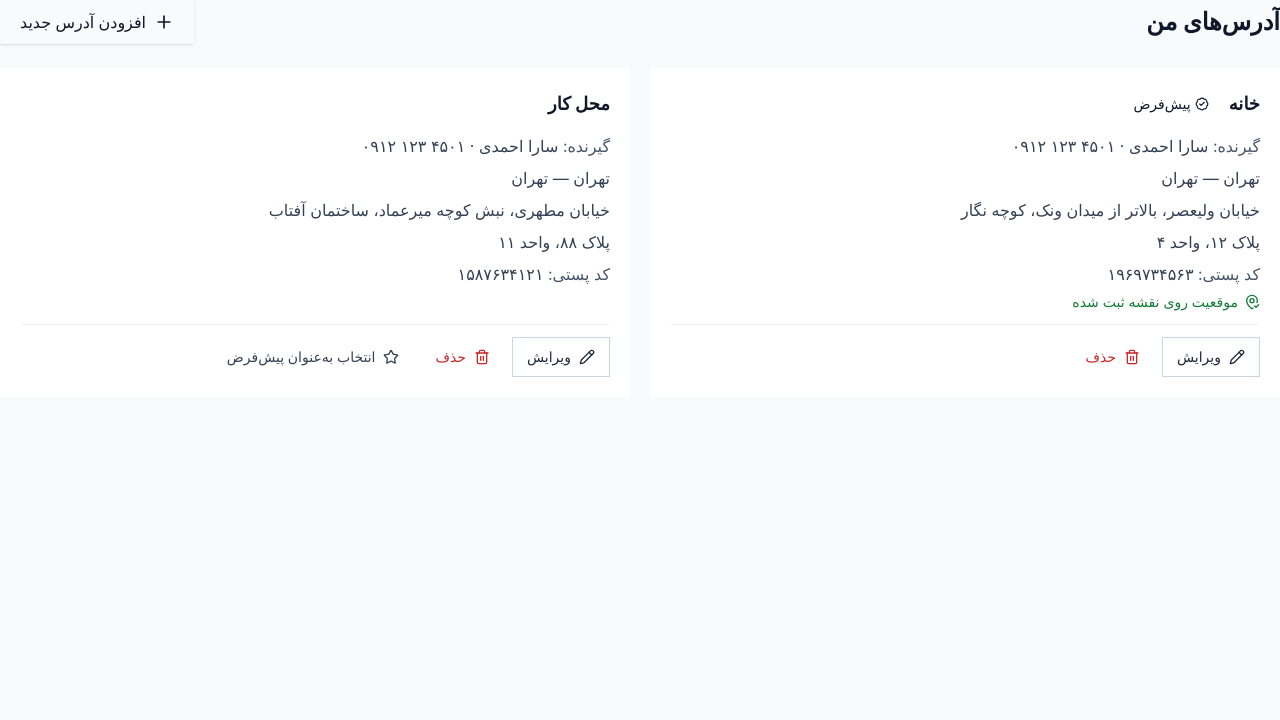
Scenario: AddressList › «انصراف» deletes nothing
This screenshot has width=1280, height=720.
Click the button named "حذف آدرس محل کار": (463, 357) x1=422 y1=337 x2=504 y2=377
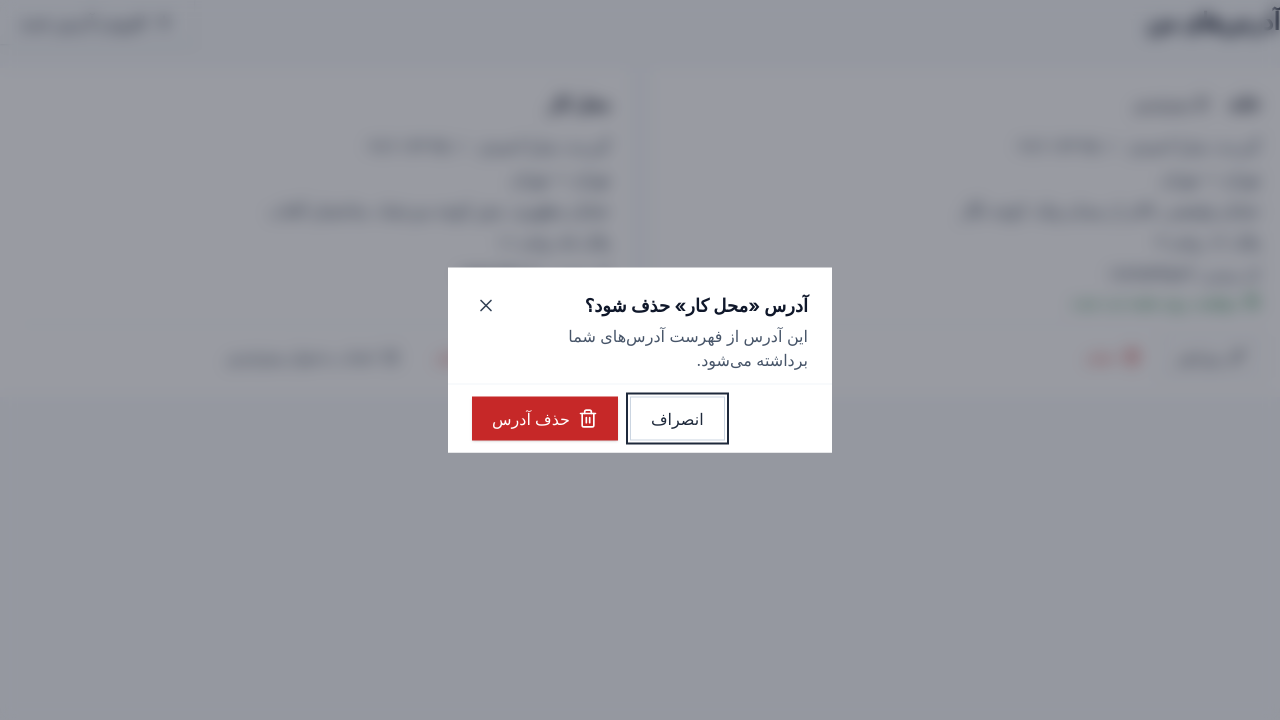
Click the button "انصراف": (677, 418) x1=630 y1=396 x2=725 y2=440
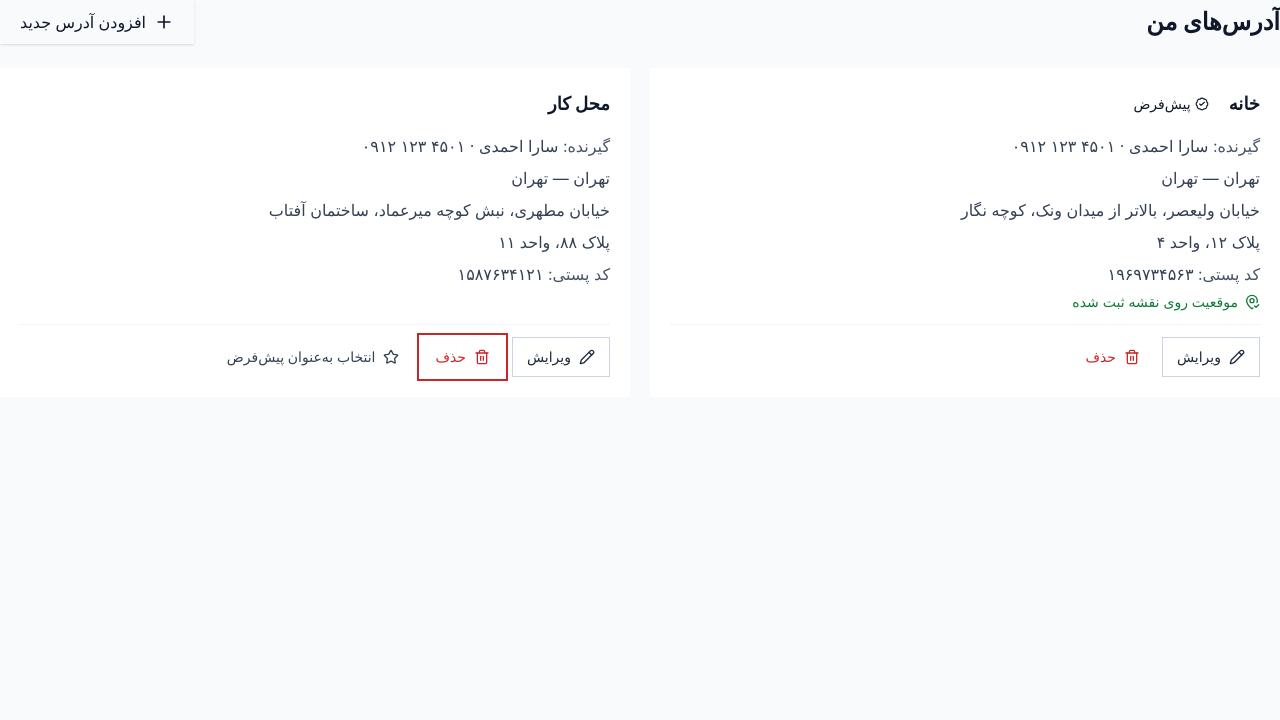
Expected: the dialog is gone
